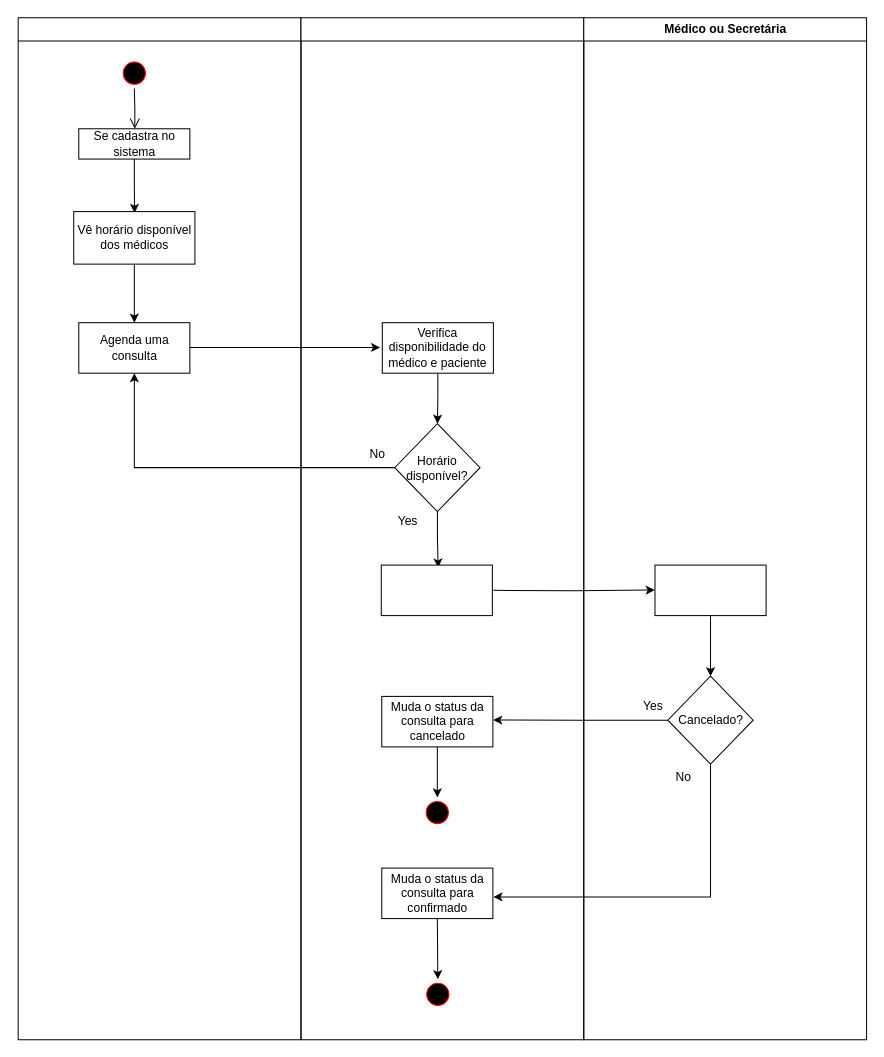
Some shapes in this 884 by 1057 pixel diagram are drawn without their labels. Each missing label, with the box of its shape:
Cancela ou confirma a consulta: (654, 564, 766, 616)
Cliente: (17, 17, 301, 1040)
Cria consulta com status pendente: (380, 564, 492, 616)
Sistema: (300, 17, 584, 1040)
